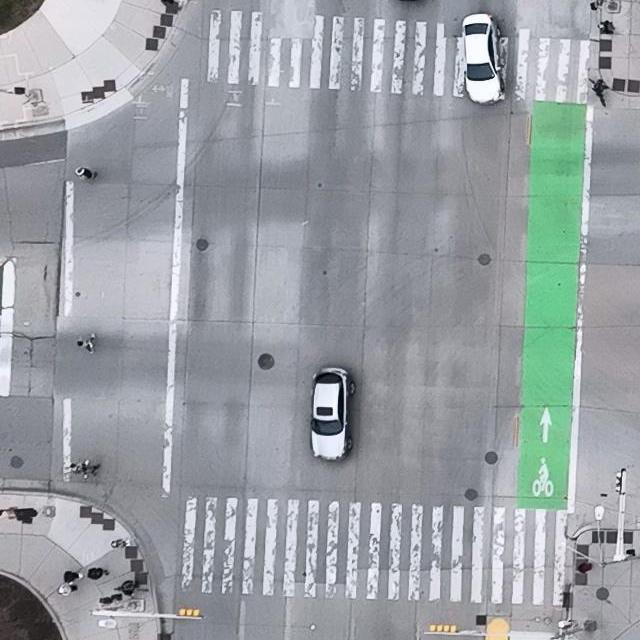car: (309, 367, 357, 462), (460, 13, 504, 105)
